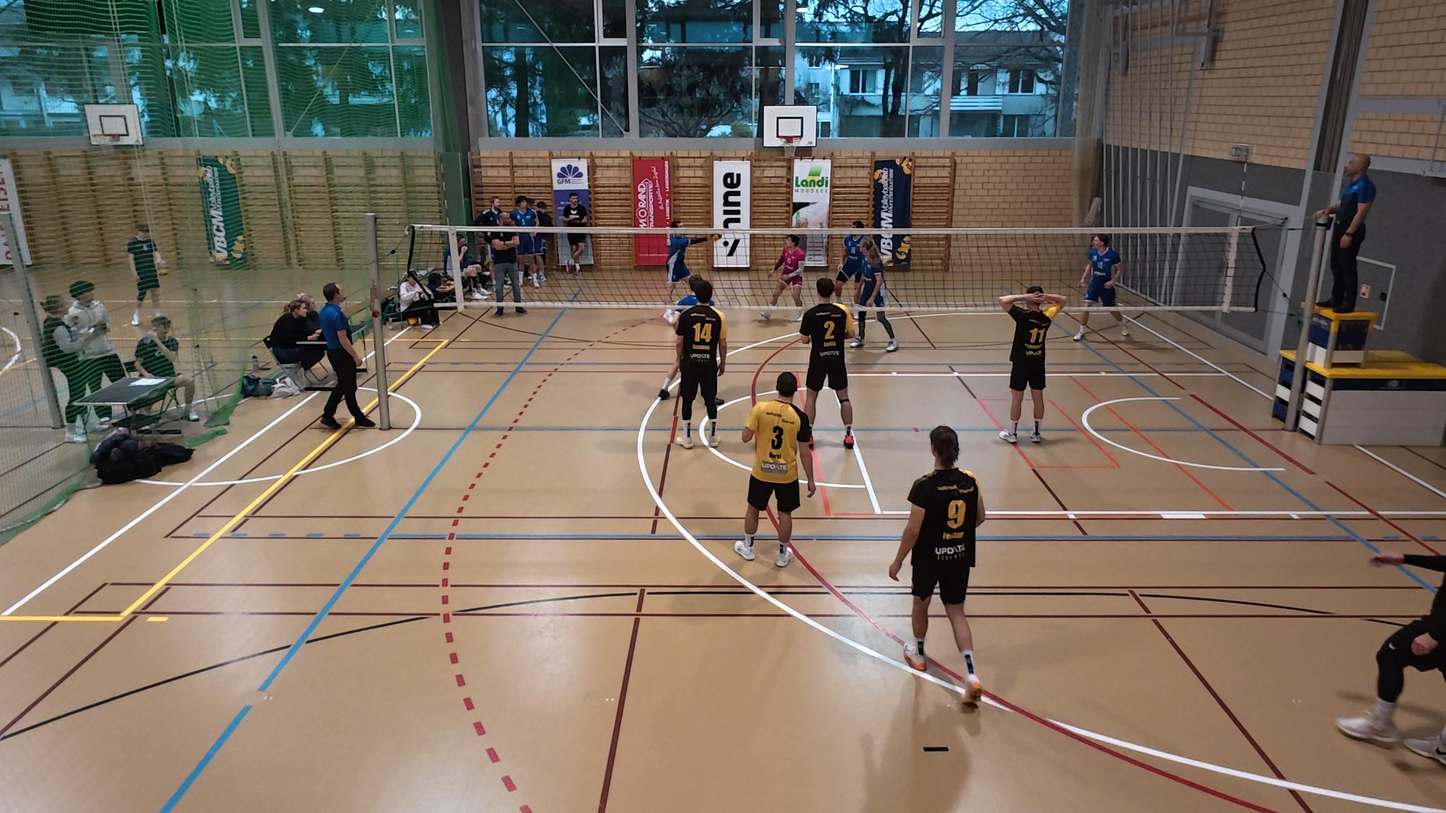Player: (888, 426, 986, 708), (1338, 551, 1445, 761), (735, 371, 816, 567), (997, 288, 1064, 444), (796, 277, 855, 448), (670, 276, 727, 447), (1069, 234, 1132, 343), (852, 246, 901, 353), (757, 234, 808, 323), (832, 219, 869, 301)
Receive: (655, 224, 725, 326)
ball: (1043, 297, 1064, 318), (706, 225, 723, 245)
